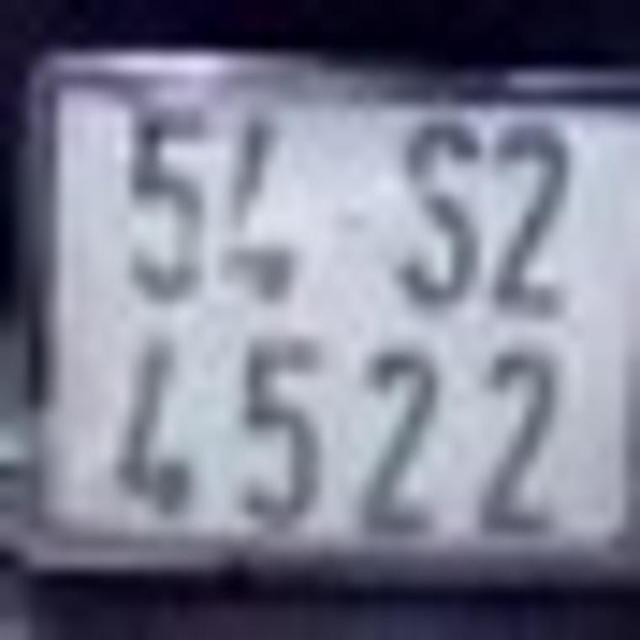2: (490, 118, 574, 317), (360, 344, 443, 538), (480, 344, 561, 539)
4: (221, 109, 305, 307), (114, 331, 197, 525)
5: (125, 102, 209, 304), (240, 330, 324, 529)
S: (395, 115, 483, 308)
